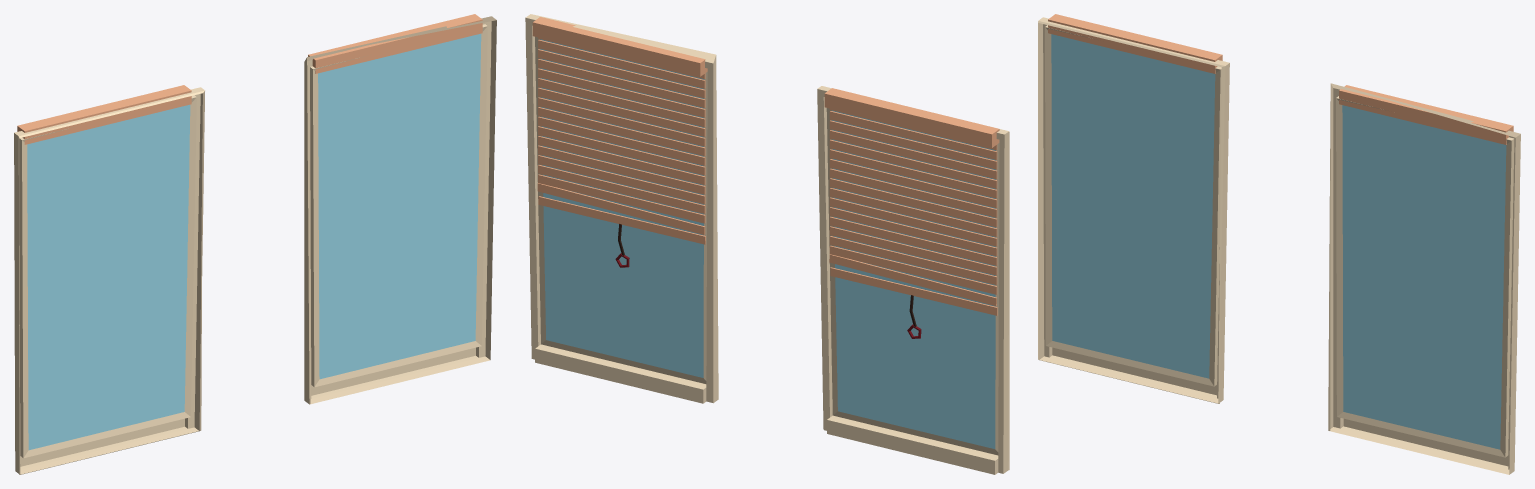
Rendered from окна кухня.fbx.
3 renders of one model, left to right at view 1: azimuth 30°, elevation 25°; view 2: azimuth 150°, elevation 25°; view 3: azimuth 330°, elevation 25°, orthographic.
Parts seen in each view (by area): view 1: окно кухня; view 2: окно кухня; view 3: окно кухня.
Part boxes in pixels (x1,y1,x2,y2): окно кухня: [14, 14, 496, 474]; окно кухня: [525, 14, 1009, 474]; окно кухня: [1038, 14, 1520, 474].
Bounding box in the file's own units: 3107 × 2148 × 112.
